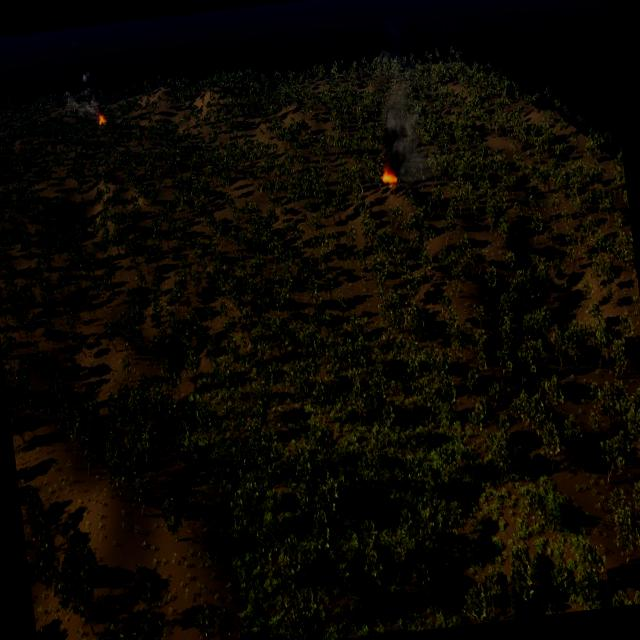fire: (380, 165, 396, 184), (95, 114, 105, 128)
smoke: (366, 0, 437, 186), (59, 68, 101, 120), (434, 13, 461, 58), (71, 40, 79, 54), (56, 56, 64, 68)
